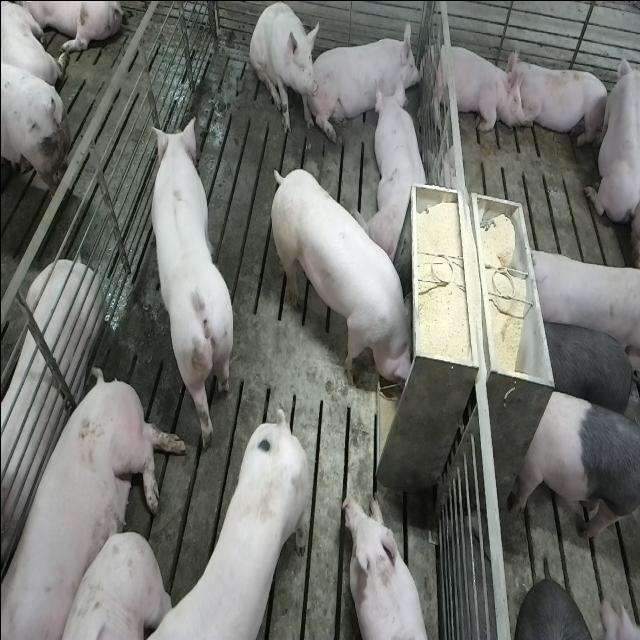Feeding: (273, 166, 422, 396)
Lateral_lying: (3, 367, 187, 640), (0, 258, 103, 584)
Sitting: (248, 2, 320, 136)
Standing: (136, 410, 318, 640), (146, 112, 235, 454), (512, 384, 639, 543), (521, 242, 637, 366), (536, 316, 638, 418)
Sternal_lying: (345, 491, 433, 640), (314, 22, 424, 134), (364, 79, 430, 258), (584, 42, 638, 226), (510, 52, 610, 148), (426, 38, 520, 134)
